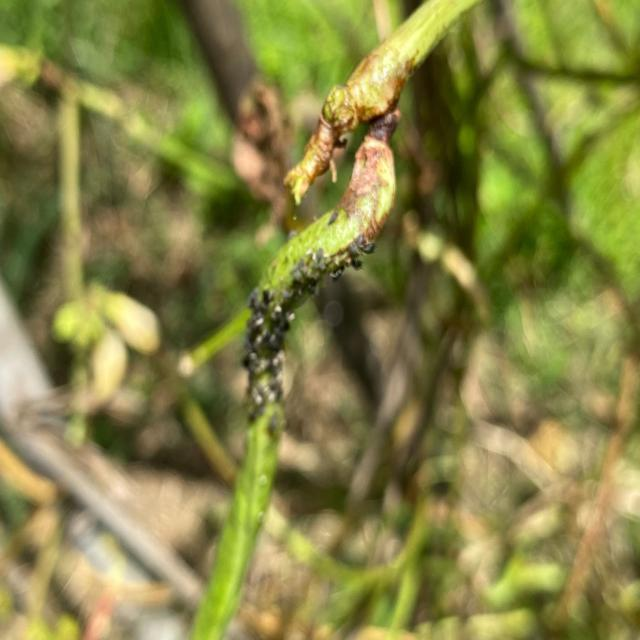sitaw-aphid-moderate: (191, 109, 399, 640)
